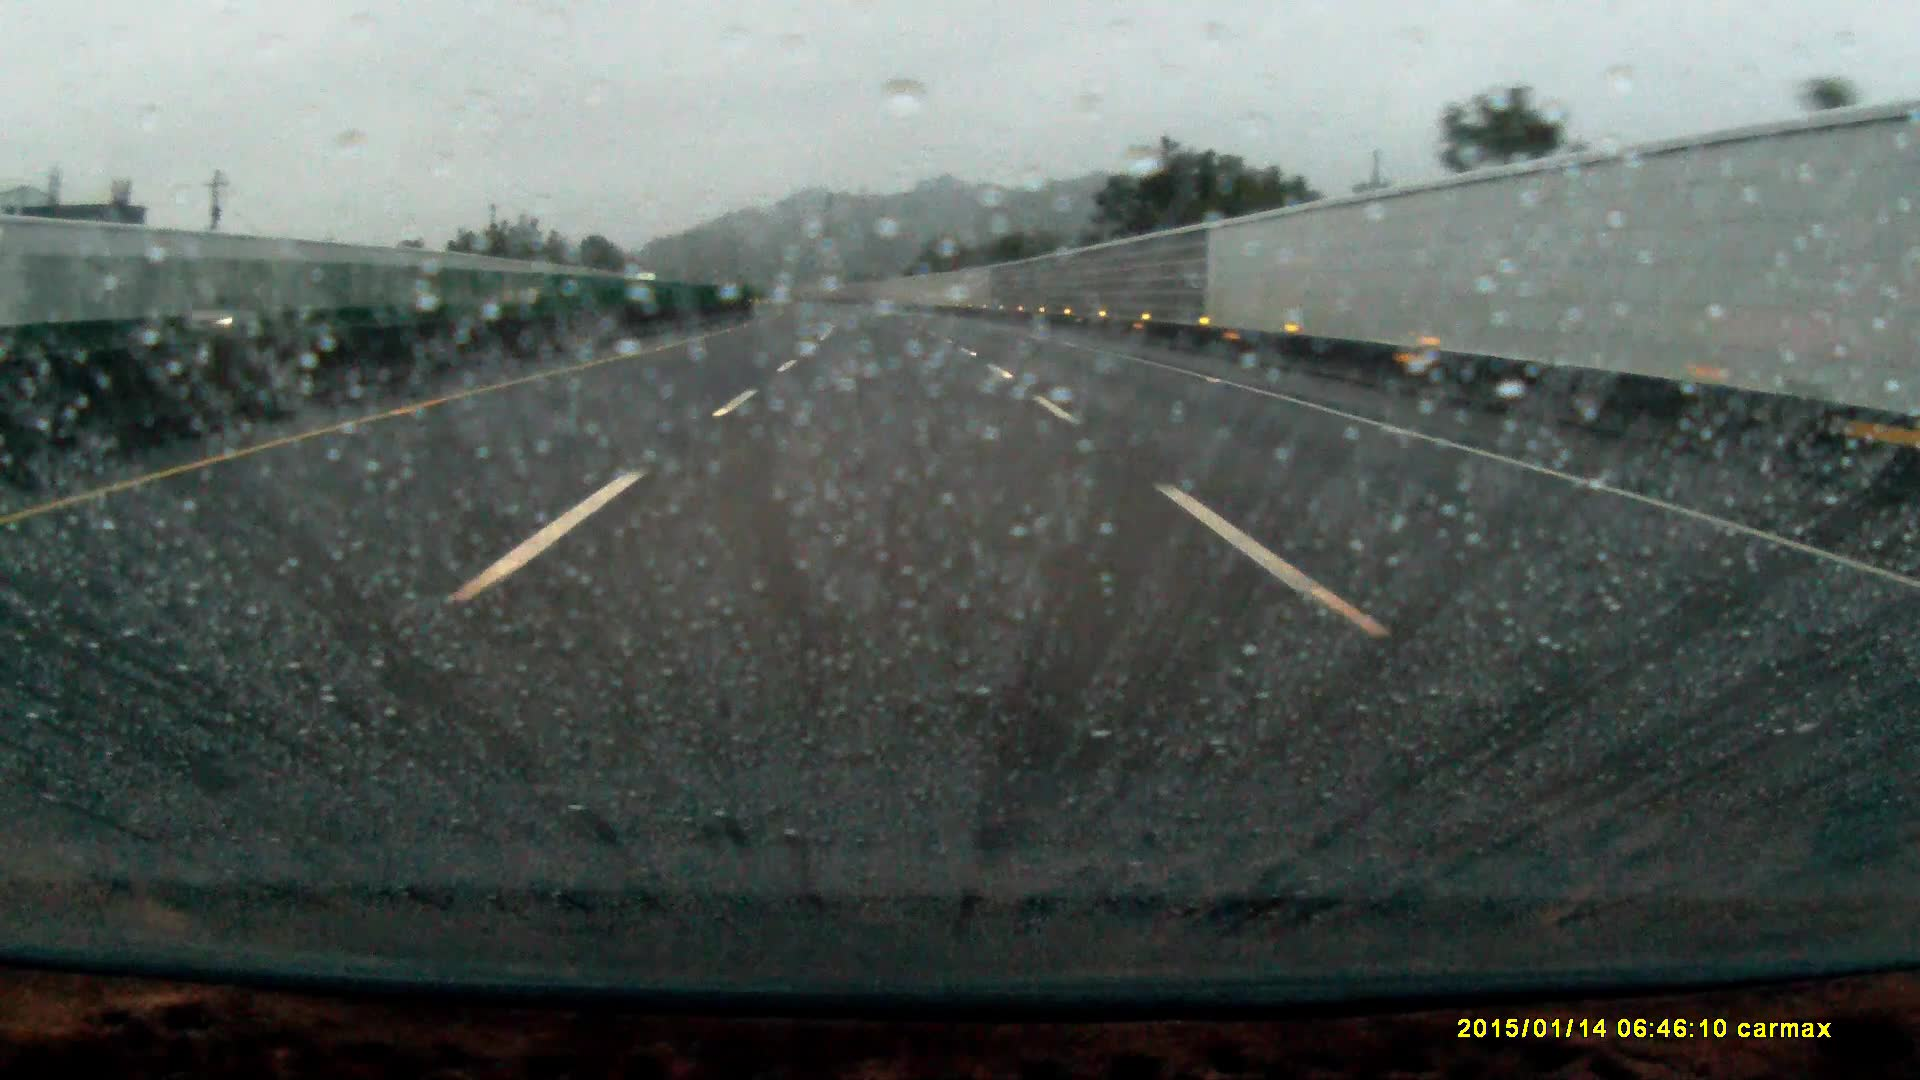vehicle: (179, 293, 255, 336)
